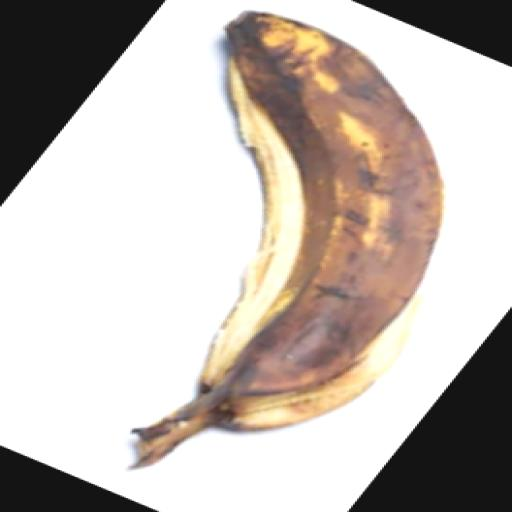banana-overripe: (70, 3, 465, 498)
